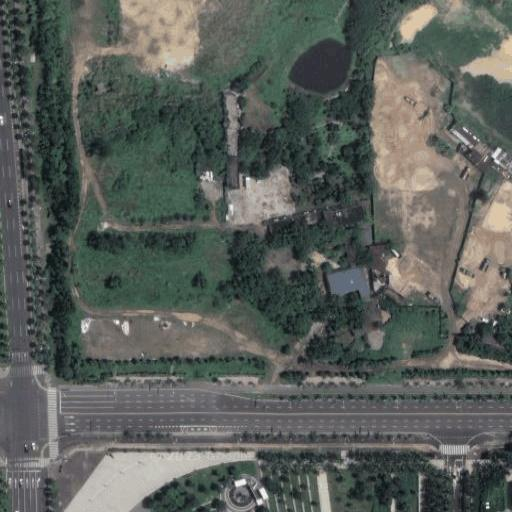building: (238, 158, 297, 222), (326, 266, 369, 300), (309, 469, 331, 512), (324, 204, 364, 227), (451, 120, 482, 149), (370, 246, 388, 293), (468, 138, 496, 168), (223, 95, 235, 152), (196, 177, 221, 204), (491, 147, 512, 179), (223, 152, 235, 182), (360, 228, 373, 245), (482, 157, 494, 170), (314, 213, 326, 225), (234, 478, 248, 487), (261, 488, 269, 499), (257, 499, 263, 505)
